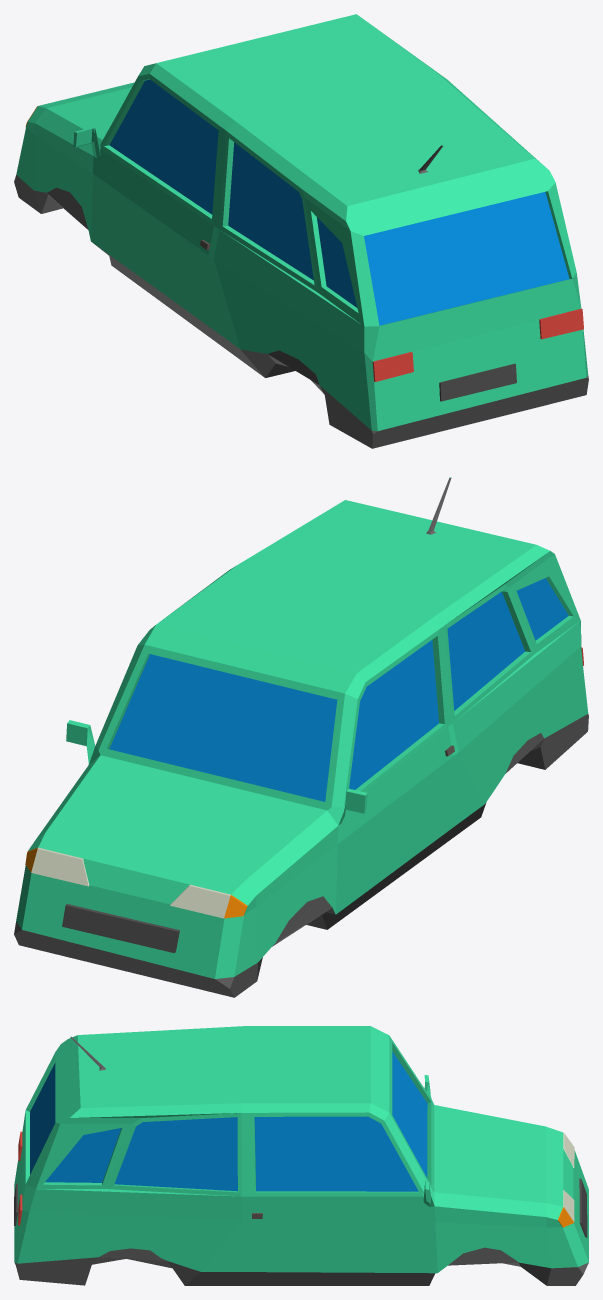
Rendered from PazzatCombi.fbx.
3 views of the same model, one above another, from view 1: azimuth 30°, elevation 25°; view 2: azimuth 150°, elevation 25°; view 3: azimuth 270°, elevation 25° (orthographic). The views are drawn at different scales.
Visible parts, largest first — view 1: body, glass, chassis, lights; view 2: body, glass, chassis, lights; view 3: body, glass, chassis, lights.
Boxes of the visible parts, bbox=[...] form: body: bbox=[16, 14, 588, 431]; glass: bbox=[109, 79, 569, 325]; chassis: bbox=[14, 175, 588, 448]; lights: bbox=[25, 106, 583, 401]; body: bbox=[16, 477, 588, 978]; glass: bbox=[109, 578, 568, 801]; chassis: bbox=[14, 714, 588, 997]; lights: bbox=[25, 647, 583, 953]; body: bbox=[14, 1026, 588, 1273]; glass: bbox=[30, 1051, 427, 1191]; chassis: bbox=[14, 1247, 588, 1285]; lights: bbox=[14, 1131, 587, 1237].
Bounding box in the file's own units: 79.24 × 66.35 × 168.
